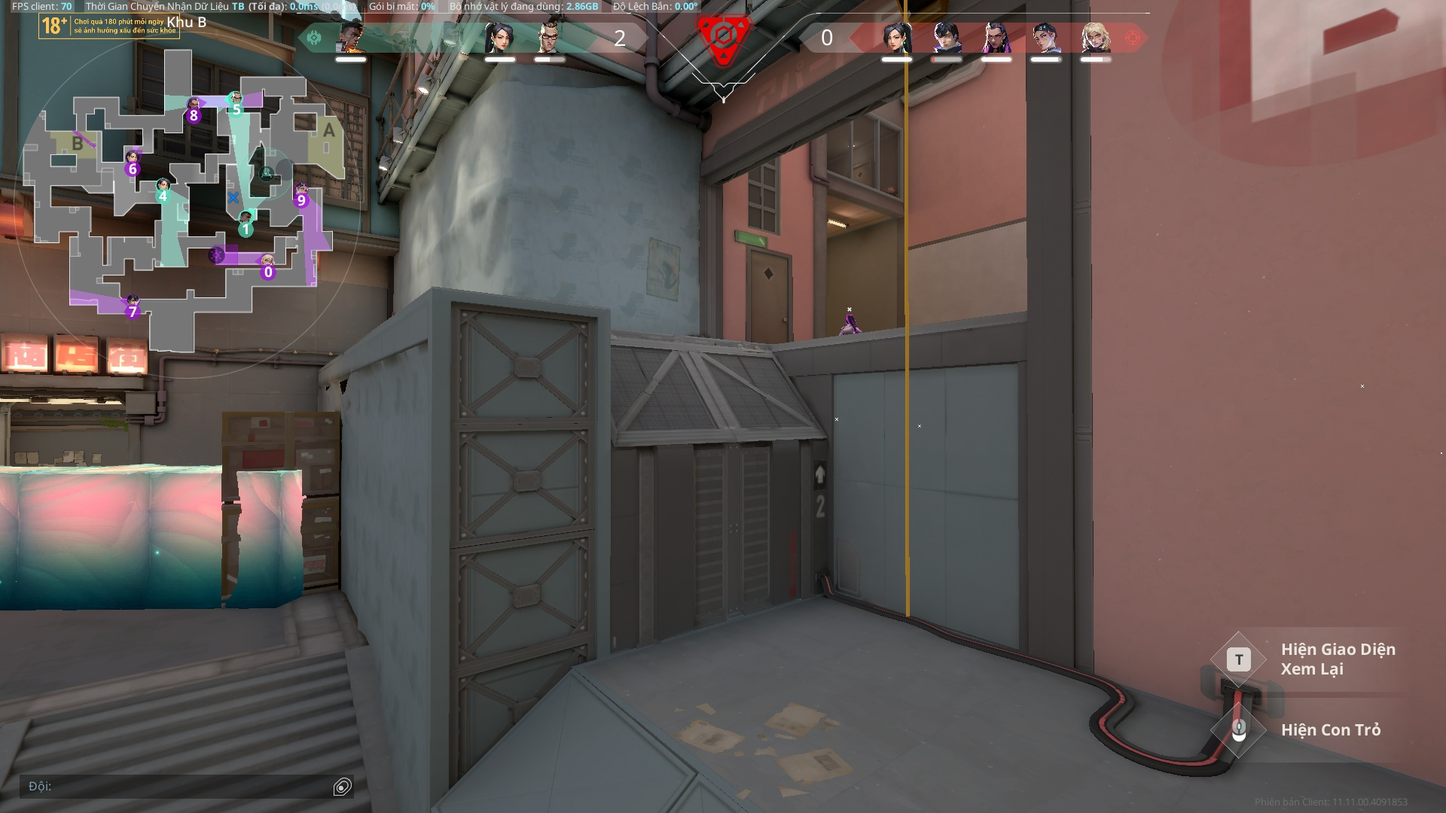body: (838, 325, 862, 334)
head: (845, 314, 854, 324)
